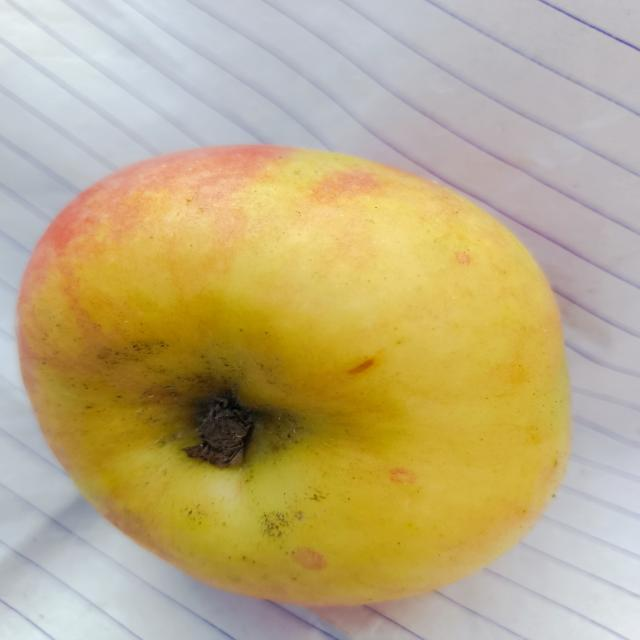Fresh Apple: (20, 152, 568, 622)
